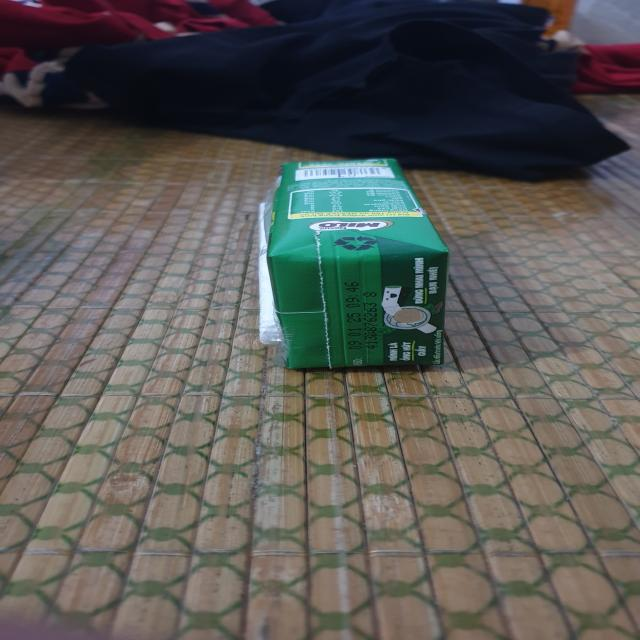Milo: (263, 157, 453, 374)
